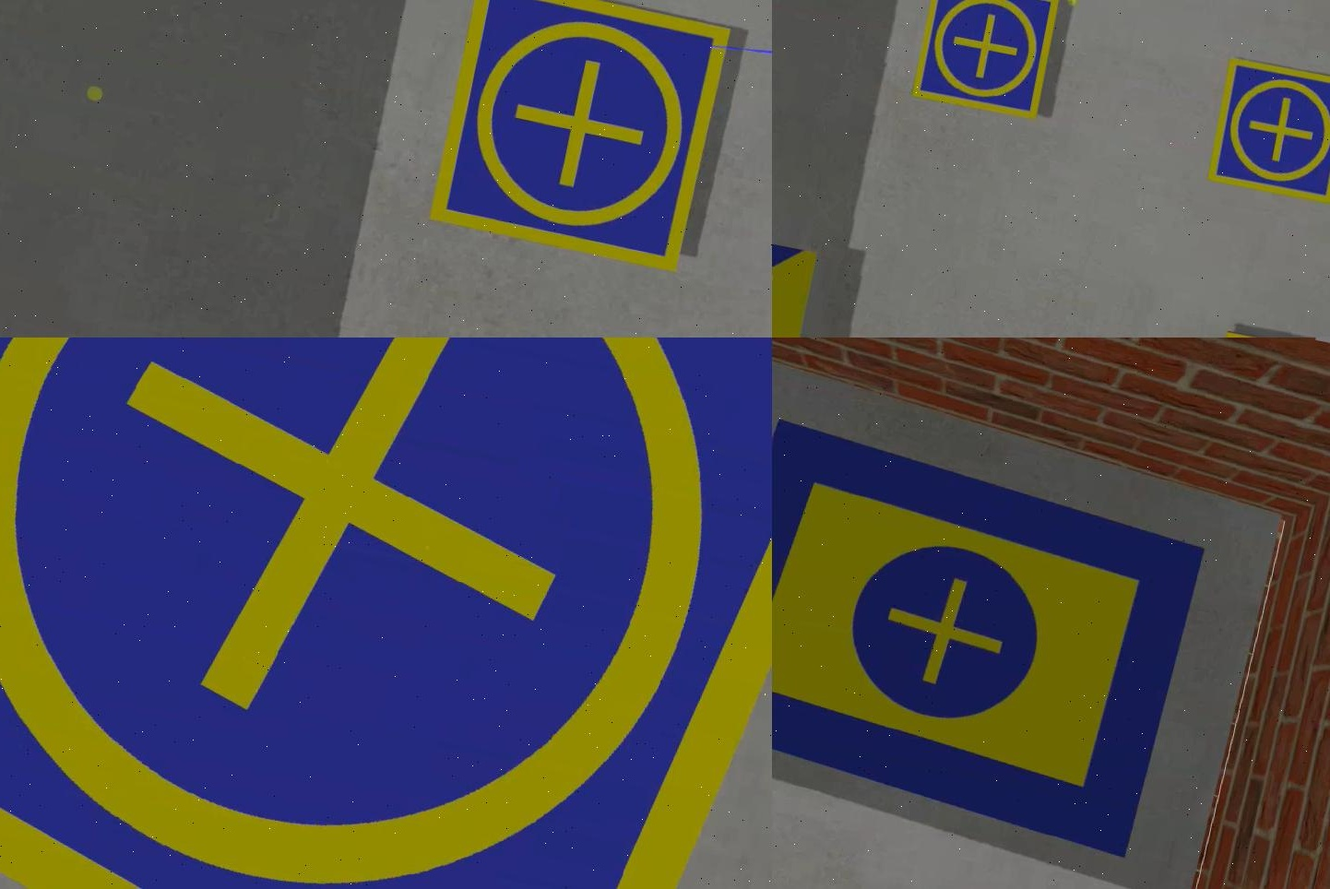large_base: (771, 411, 1214, 864)
small_base: (0, 338, 771, 889), (423, 1, 736, 273), (1203, 56, 1328, 210), (908, 1, 1063, 124)
